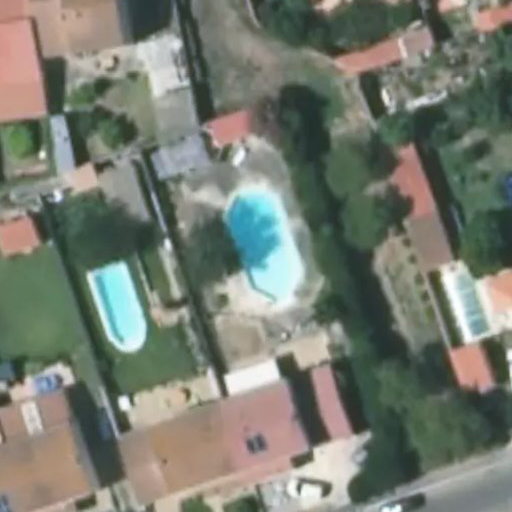pool: (212, 199, 299, 284)
